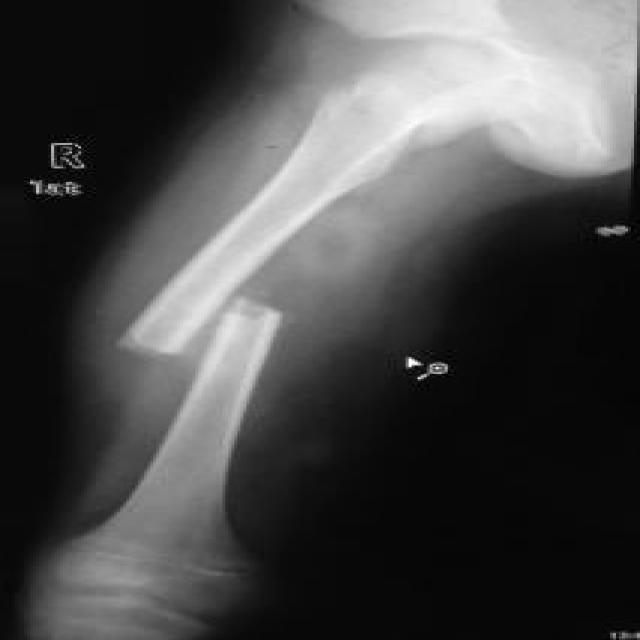fractured: (128, 243, 298, 403)
